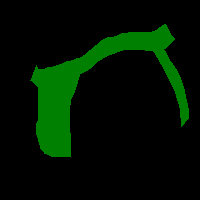mutande: (30, 23, 189, 157)
